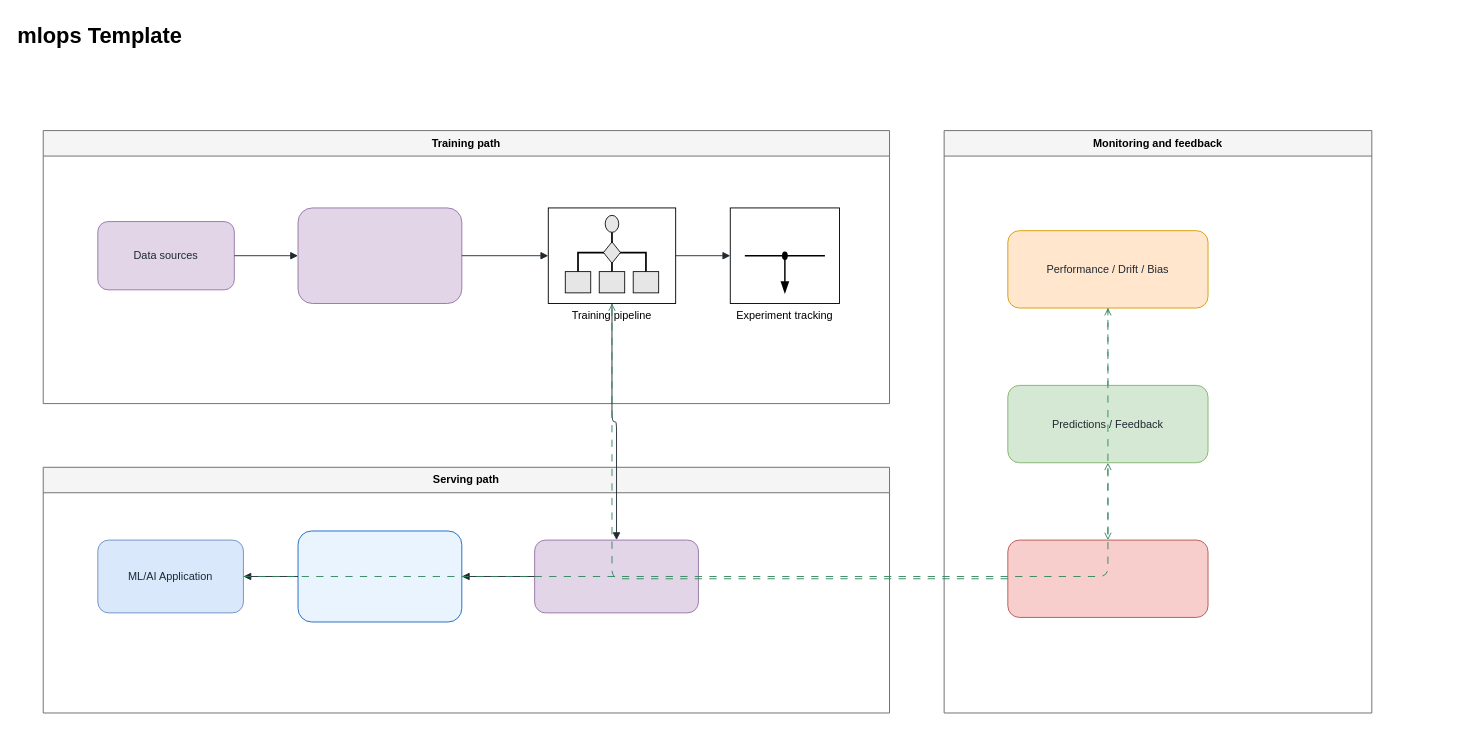
Some shapes in this 1460 by 729 pixel diagram are drawn without their labels. The shapes that lost their labels are listed below. From the top down, each one's box as (x1, y1, x2, y2) in pixels, then its label:
(297, 207, 462, 303): Feature engineering Feature Store
(297, 530, 462, 622): Deployment batch or real-time
(534, 539, 698, 613): Model Registry
(1007, 539, 1208, 617): Retraining trigger
